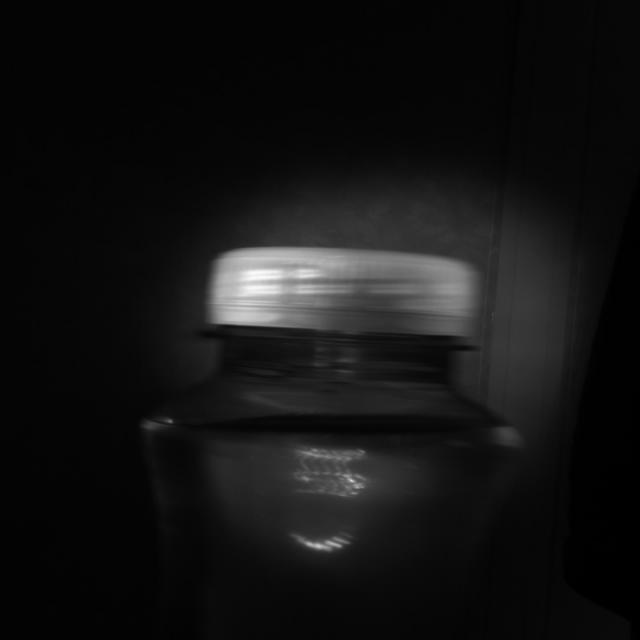Good: (207, 242, 482, 345)
